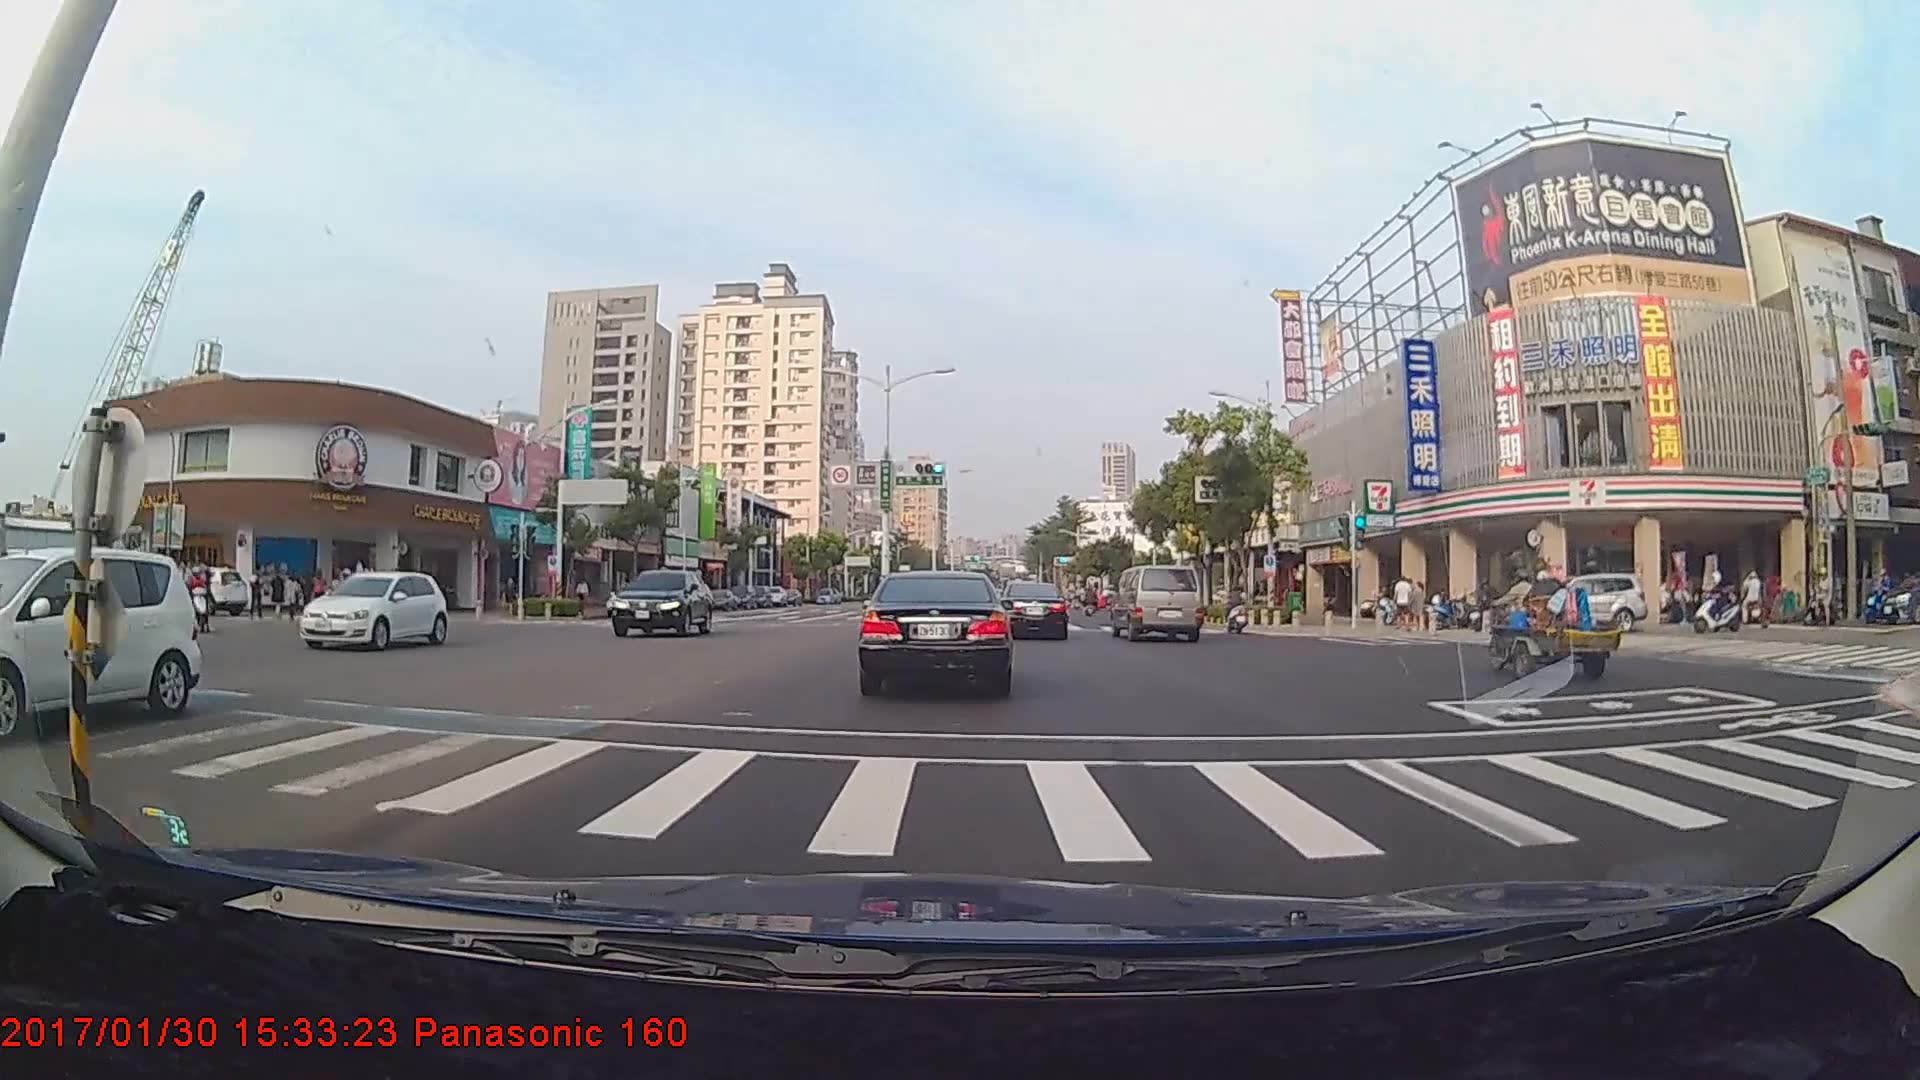pedestrian: (1392, 573, 1413, 631)
rider: (1689, 568, 1753, 639), (1216, 582, 1256, 637)
vehicle: (0, 545, 196, 728), (859, 566, 1012, 696), (299, 569, 447, 649), (1490, 574, 1643, 635), (608, 568, 713, 638), (1112, 564, 1202, 643), (999, 580, 1068, 640)
